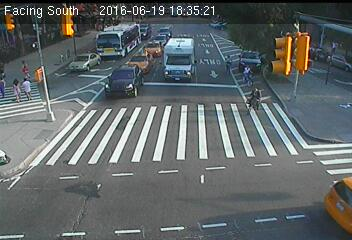neg: (21, 122, 47, 156), (288, 166, 311, 198), (131, 151, 154, 181), (173, 8, 195, 39), (64, 61, 85, 89), (246, 139, 267, 166), (286, 116, 305, 142), (245, 87, 264, 112), (237, 62, 256, 86), (124, 8, 142, 32), (234, 183, 252, 206), (141, 104, 158, 127), (103, 126, 120, 149), (99, 62, 116, 84), (179, 183, 196, 205), (220, 51, 236, 73), (293, 11, 309, 33), (124, 46, 140, 67), (211, 149, 226, 169), (32, 6, 47, 26), (65, 111, 80, 130), (217, 10, 232, 29), (212, 95, 226, 115), (177, 102, 191, 121), (47, 161, 60, 179), (99, 168, 112, 186), (165, 152, 178, 169), (70, 166, 83, 183), (187, 129, 199, 145), (325, 59, 337, 74)
pos: (17, 76, 36, 101), (5, 76, 23, 100), (19, 58, 34, 77)
